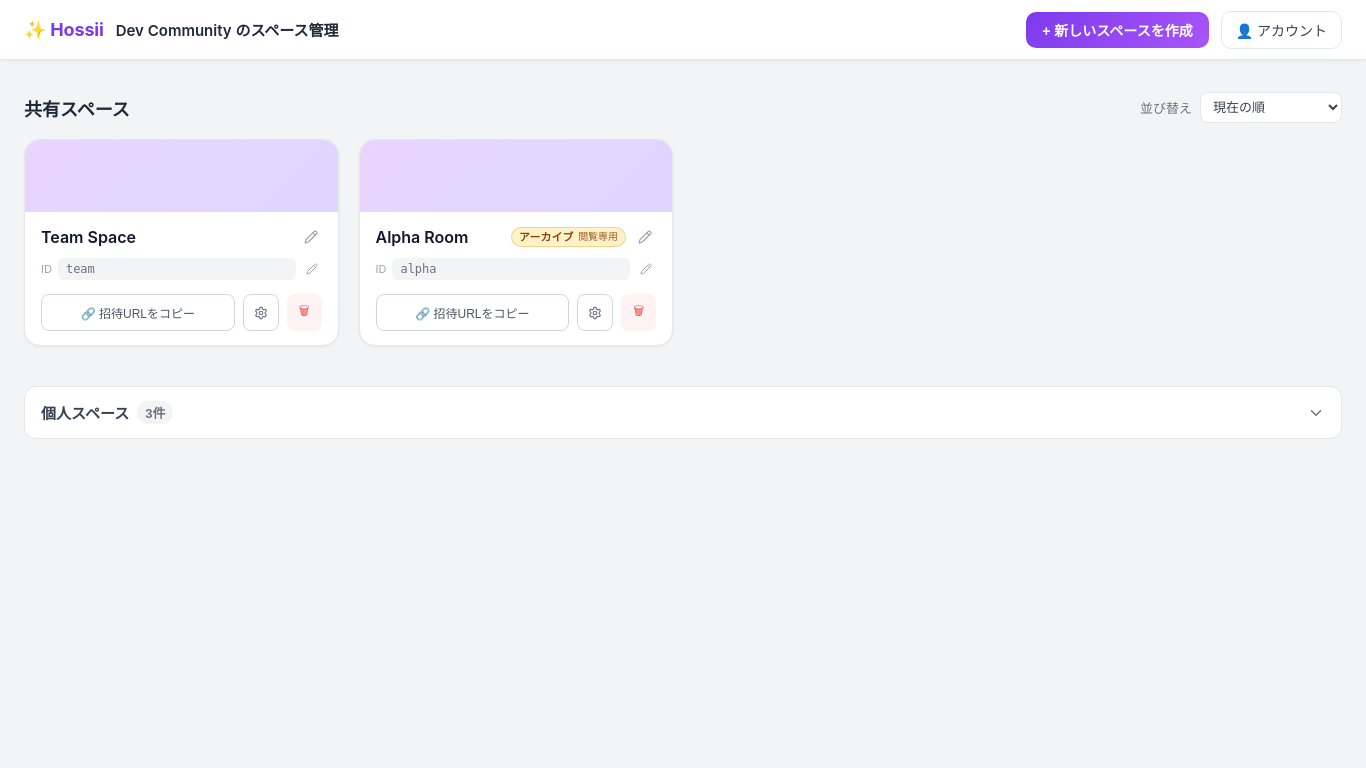
Test case: SpacesScreen admin search and sort › スペース名で検索できる
Click the button "個人スペース 3件" at coordinates (85, 414), box top-left (24, 386), bottom-right (1342, 439)
(page scrolled)
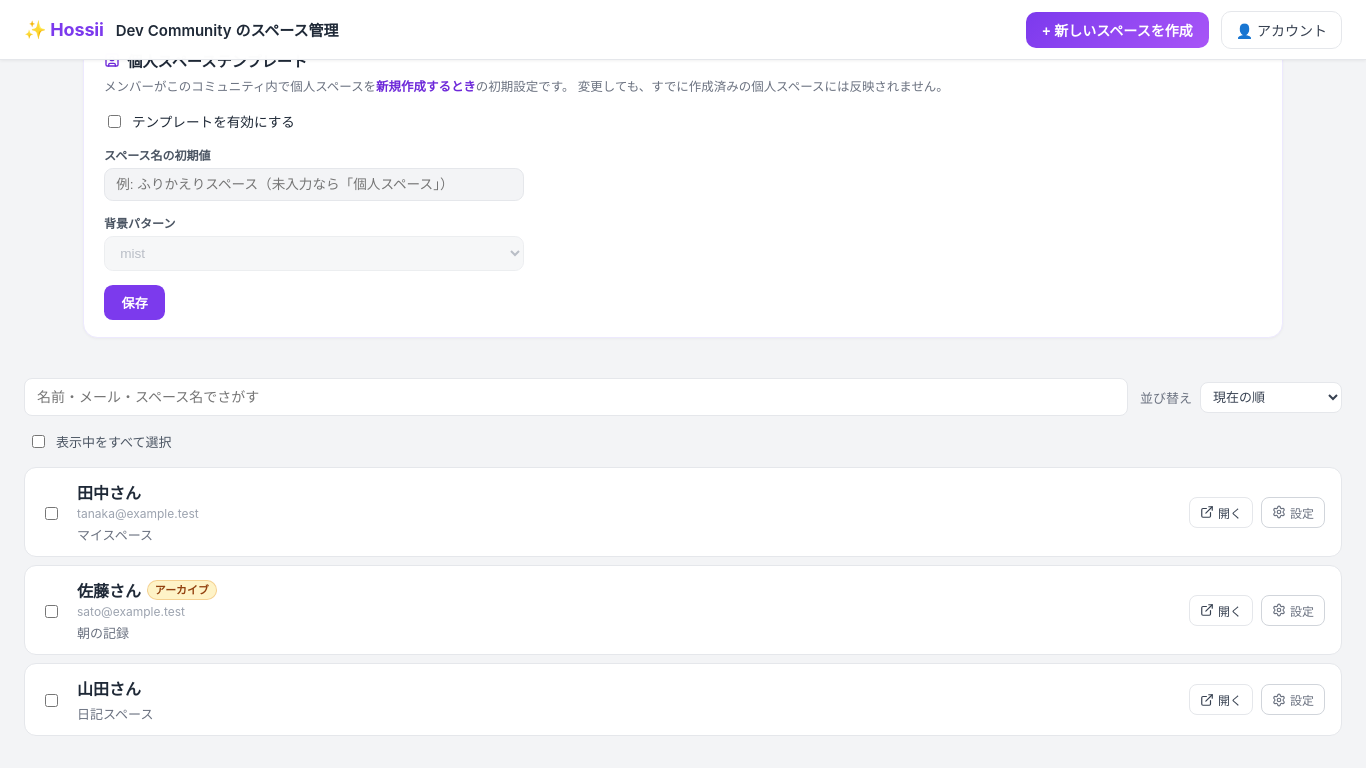
Check: the search field named "個人スペースを検索" is shown
Type "日記" into the search field named "個人スペースを検索" at coordinates (576, 397), box top-left (24, 378), bottom-right (1128, 416)
(page scrolled)
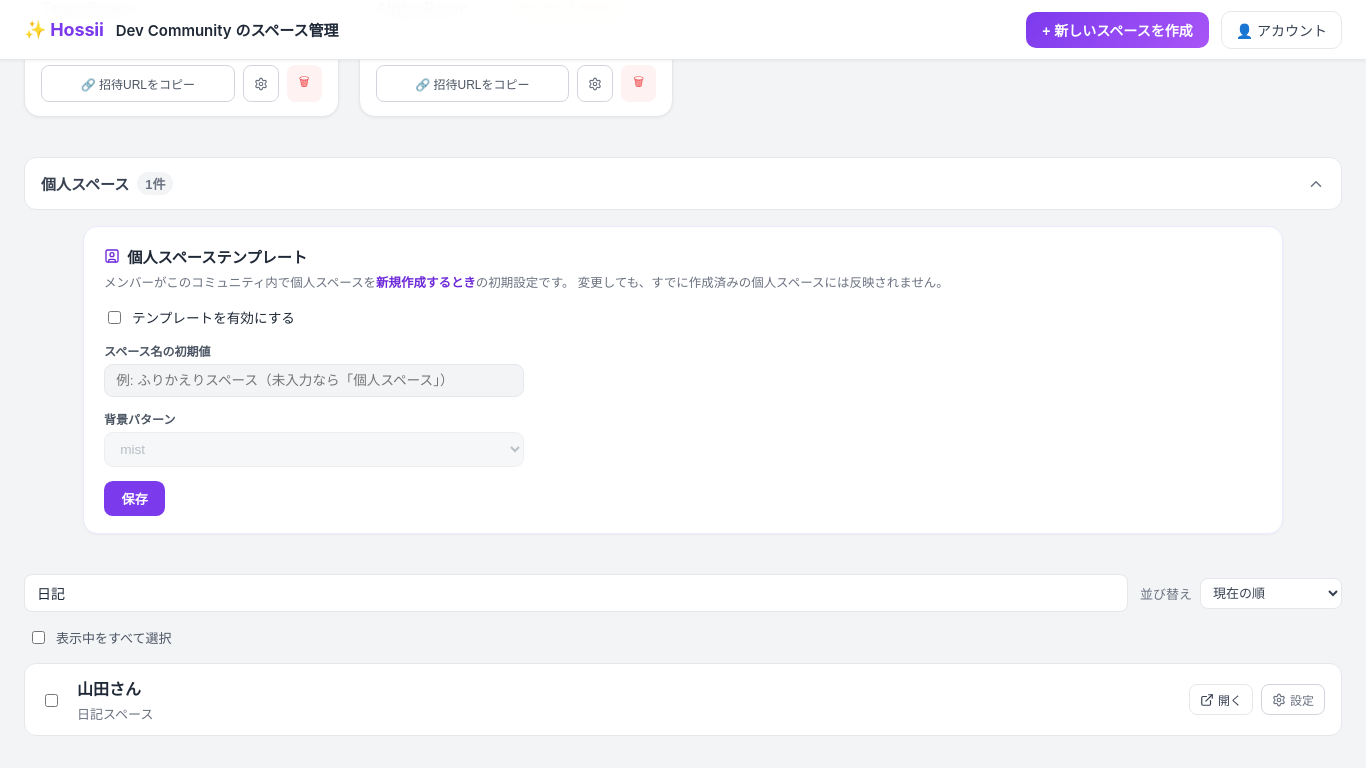
Check: the text "山田さん" is shown, box top-left (77, 676), bottom-right (141, 700)
Check: the text "田中さん" is gone
